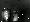person: (4, 10, 12, 22), (14, 9, 19, 21)
